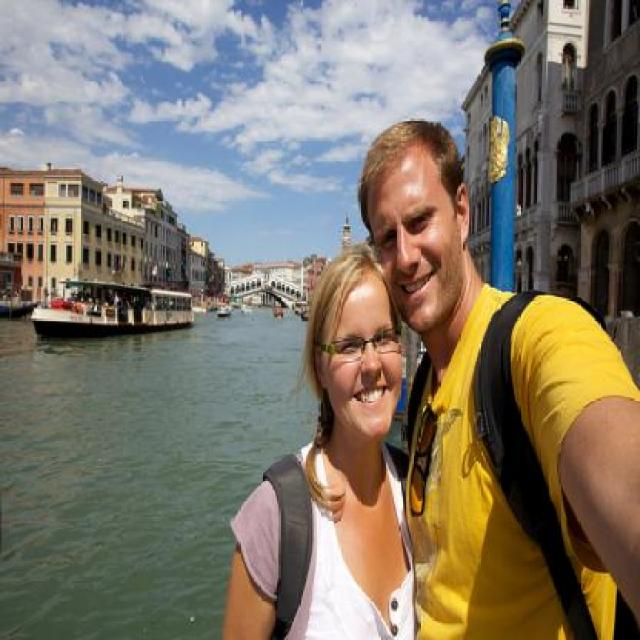ship: (23, 280, 195, 345), (213, 300, 230, 318), (238, 301, 252, 313), (270, 306, 282, 316)
